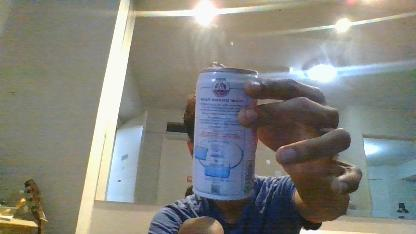Can: (192, 61, 258, 203)
